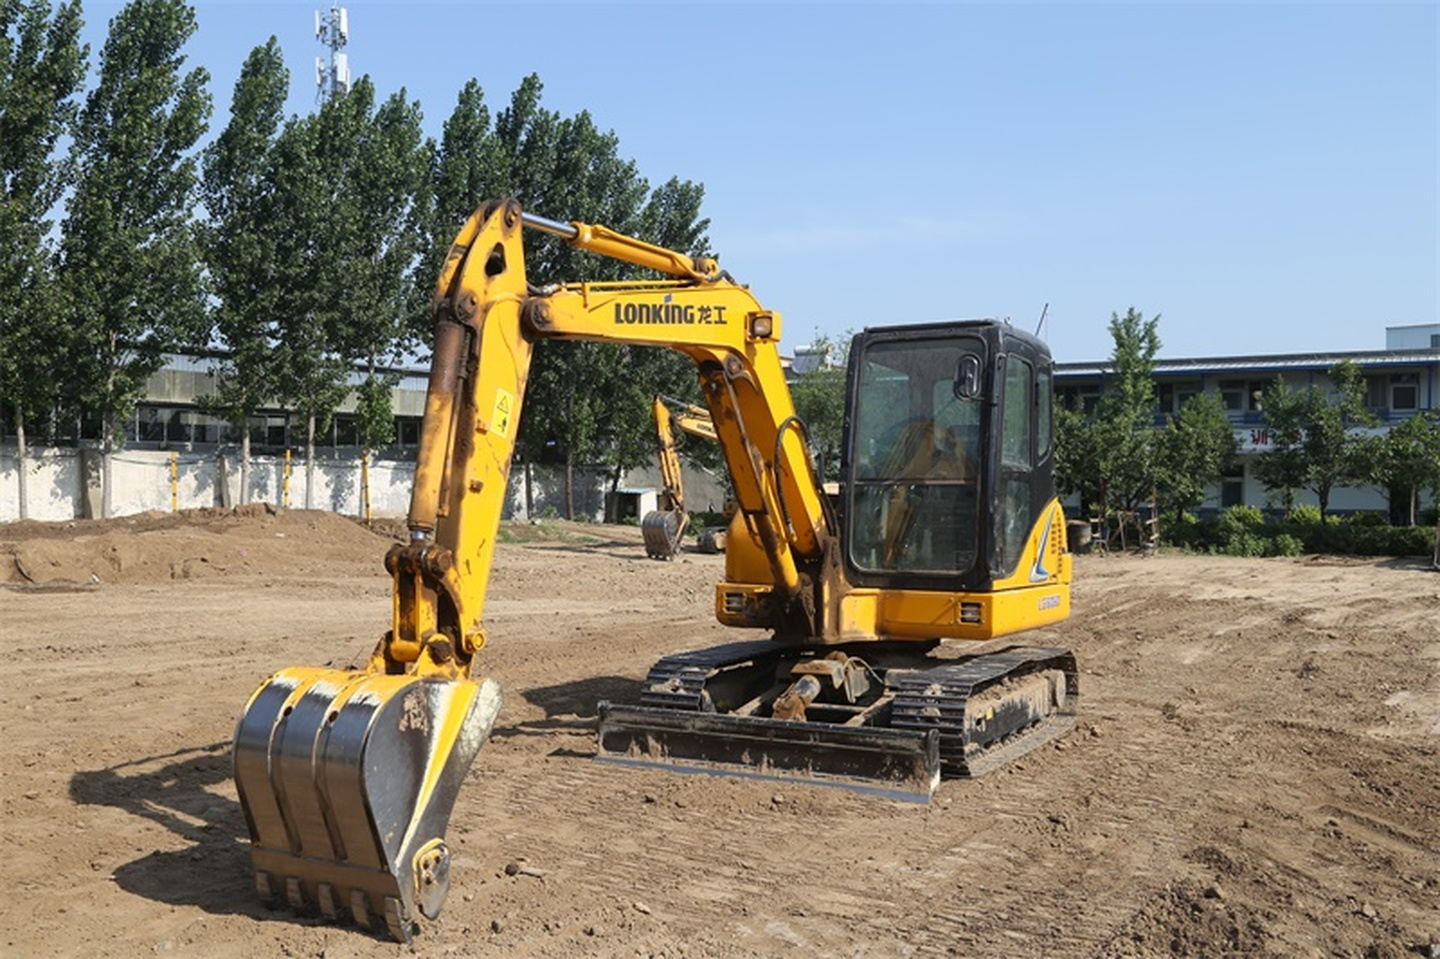excavator: (219, 177, 1132, 941)
